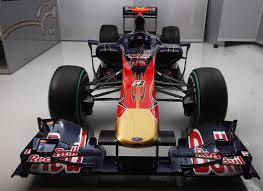f1_car: (8, 4, 263, 188)
